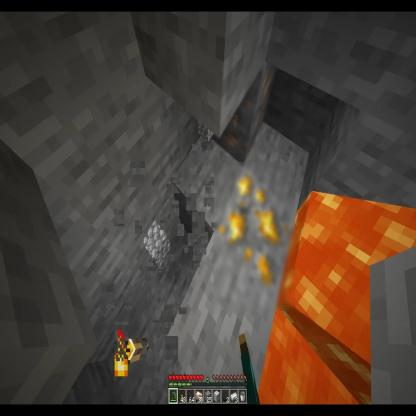gold ore: (214, 162, 295, 311)
iron ore: (214, 63, 278, 168)
